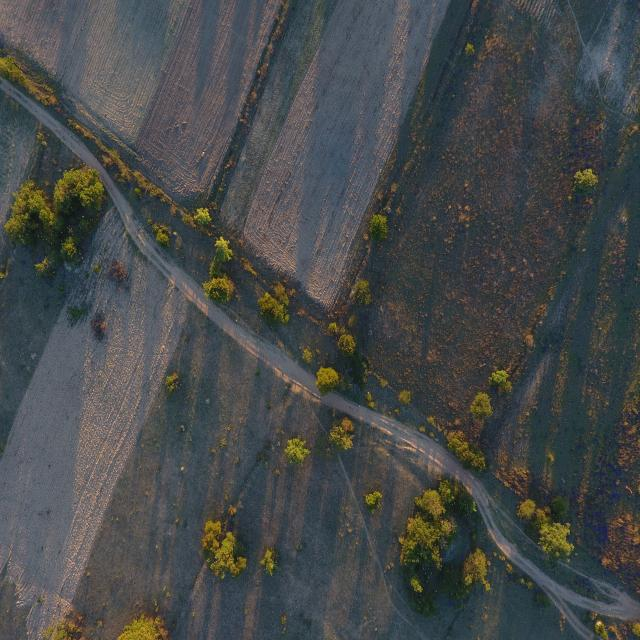boundaries: (17, 7, 634, 604)
